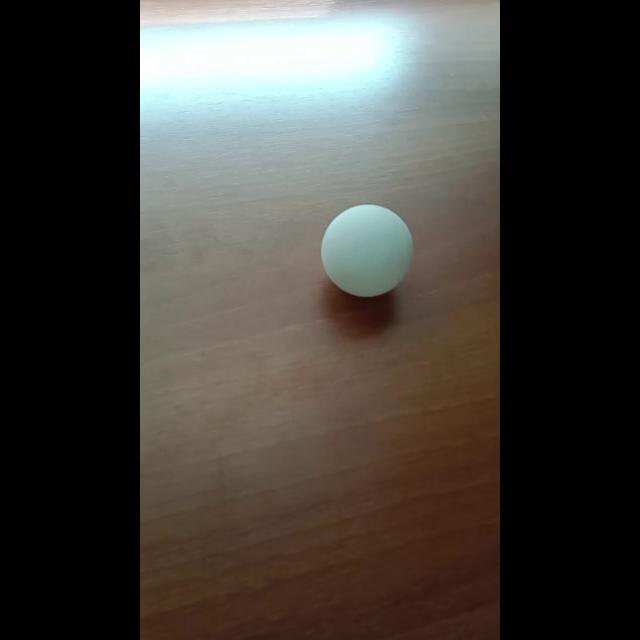white ball: (320, 202, 412, 298)
